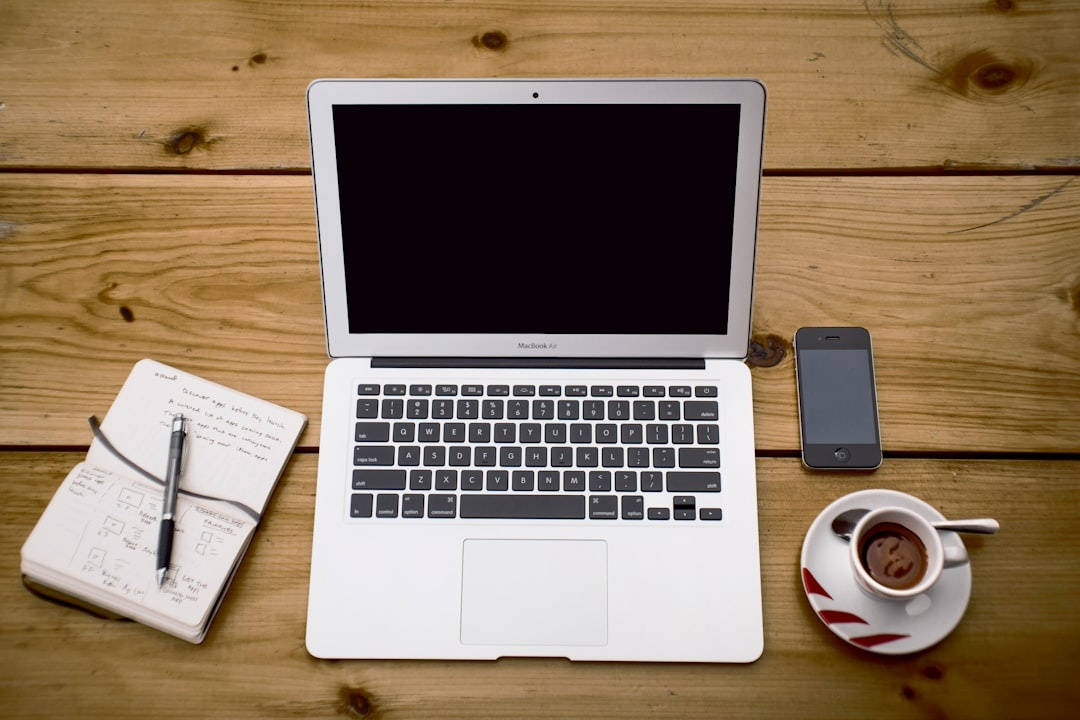laptop: (280, 47, 783, 671)
